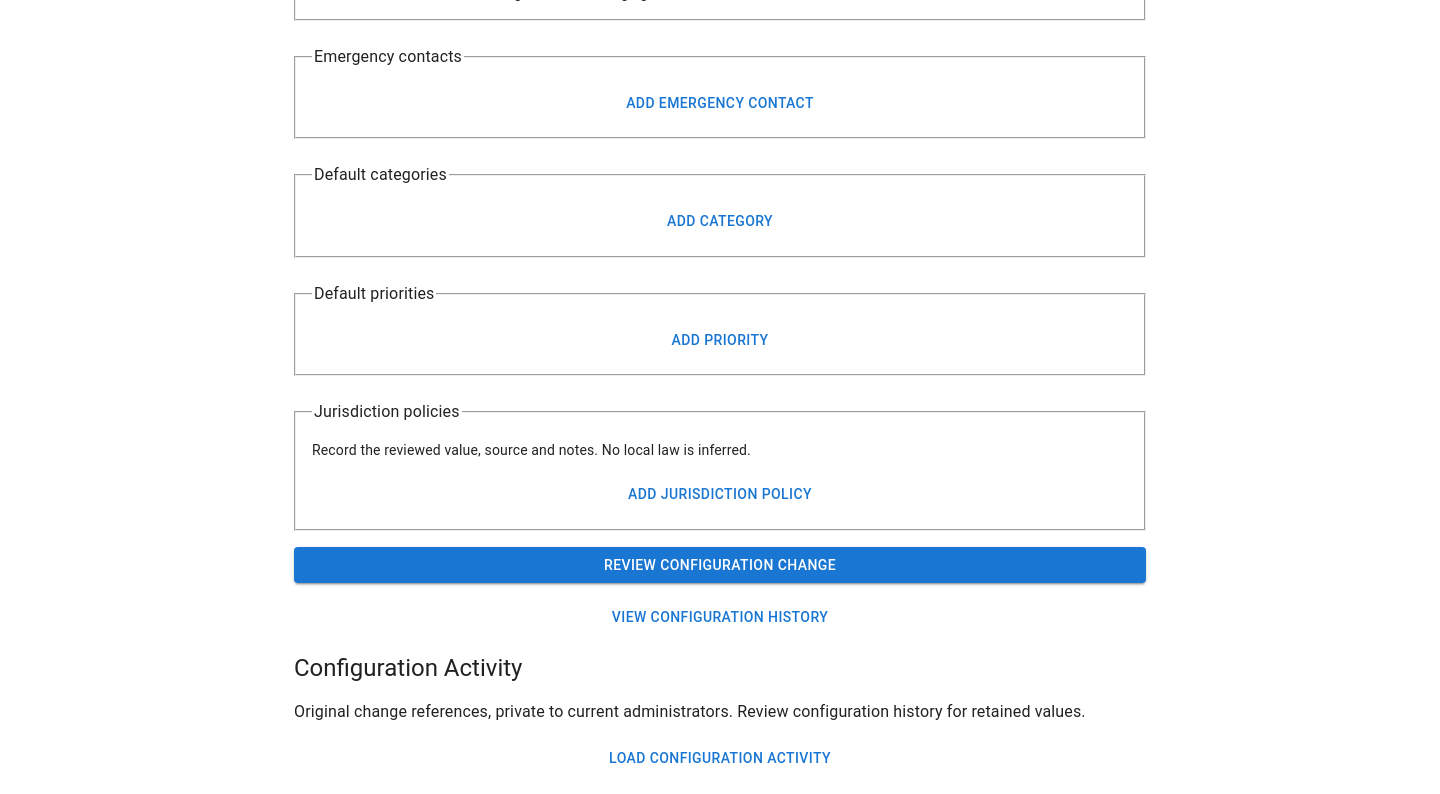
Test case: records a definite conflict without a mutation success
(page scrolled)
What coordinates should you click on to do the following:
click the button "Review configuration change"
I would click on:
 (720, 565)
Its box is [294,546,1146,583].
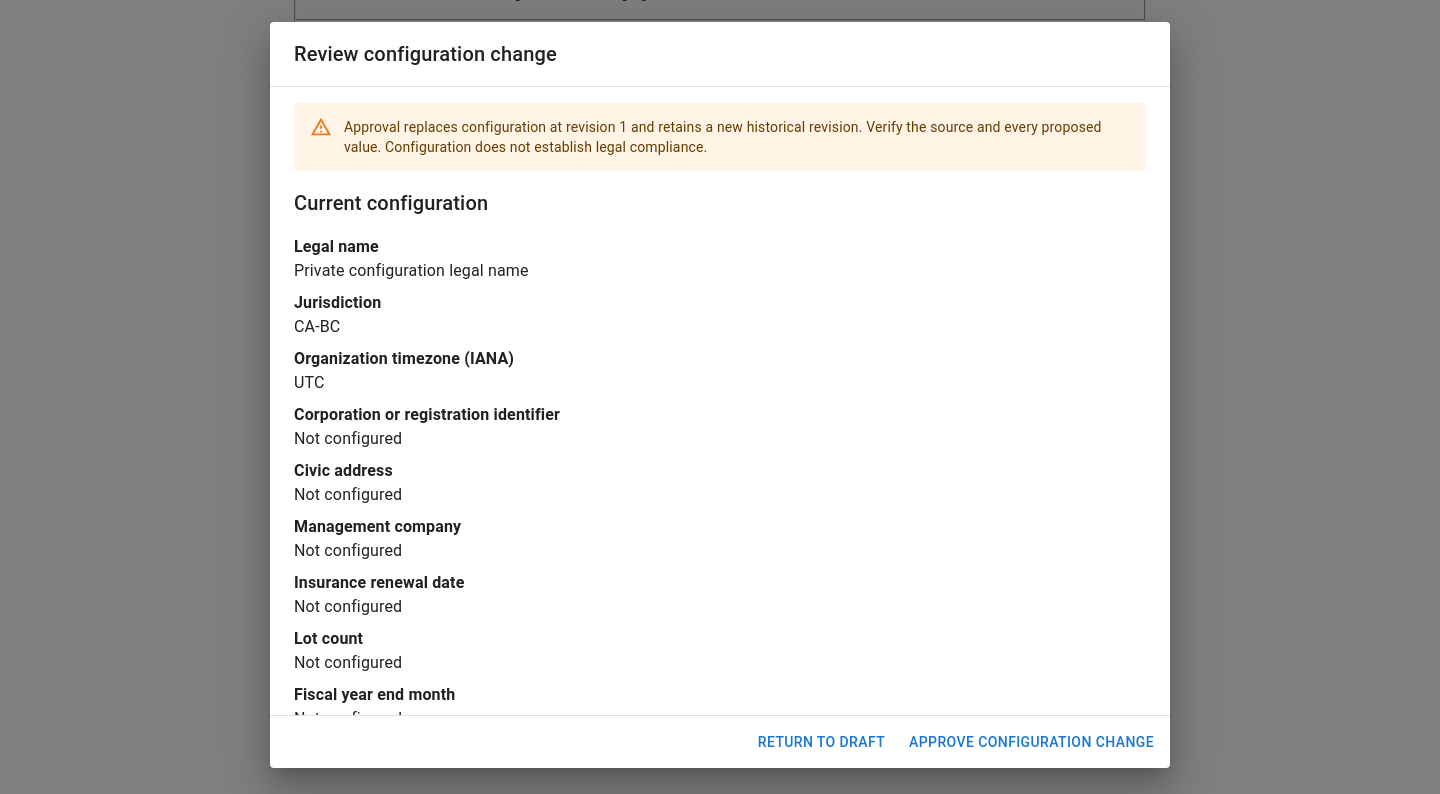
What coordinates should you click on to do the following:
click the button "Approve configuration change"
I would click on:
 (1032, 742)
Its box is [901,724,1162,760].
(page scrolled)
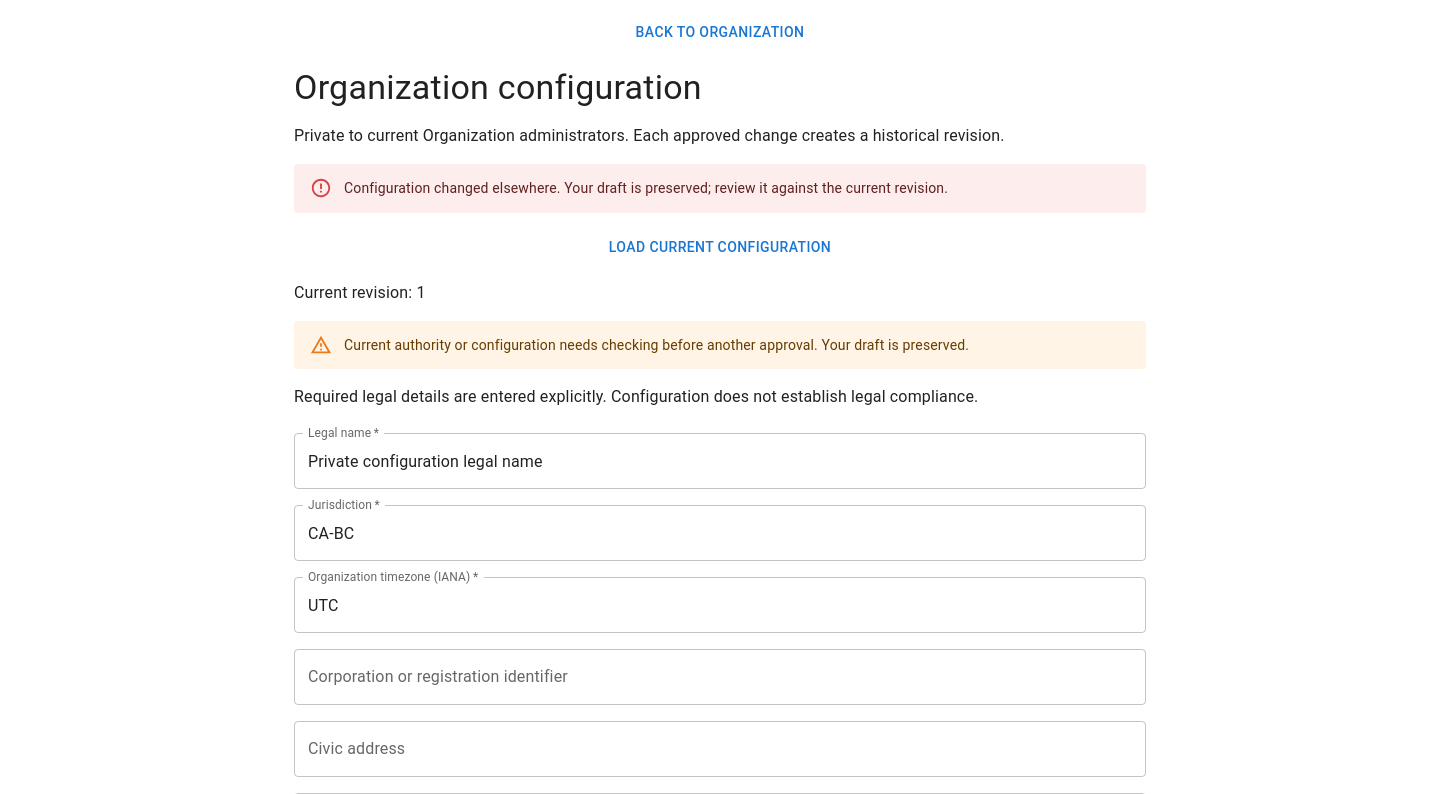
Now the text "Configuration changed elsewhere. Your draft is preserved; review it against the current revision." is shown, box [344,180,948,196]
